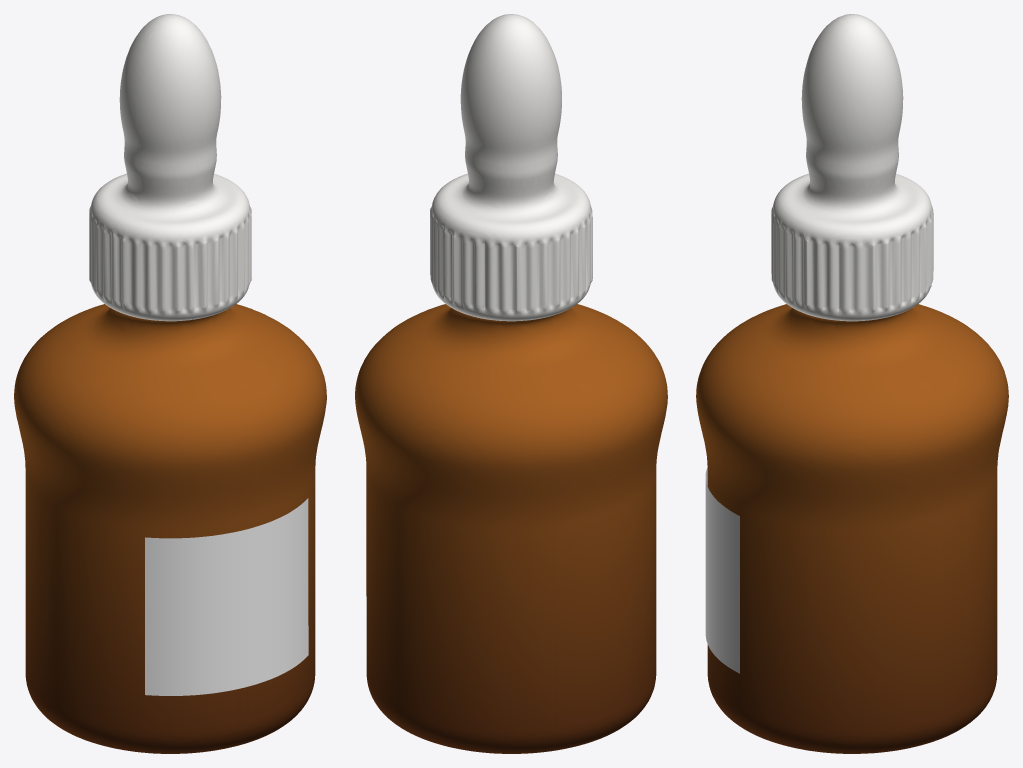
The model's file is essence.glb.
The picture shows the model from 3 angles, left to right: view 1: azimuth 30°, elevation 25°; view 2: azimuth 150°, elevation 25°; view 3: azimuth 270°, elevation 25°; orthographic projection.
Visible parts, largest first — view 1: bottle, dropper, label; view 2: bottle, dropper; view 3: bottle, dropper, label.
Boxes of the visible parts, <box> form: bottle: <box>14,304,326,753</box>; dropper: <box>89,14,251,321</box>; label: <box>145,498,308,695</box>; bottle: <box>355,304,667,753</box>; dropper: <box>430,14,592,321</box>; bottle: <box>696,304,1008,753</box>; dropper: <box>771,14,933,321</box>; label: <box>705,467,739,673</box>.
Bounding box in the file's own units: 0.6475 × 1.57 × 0.6475.
